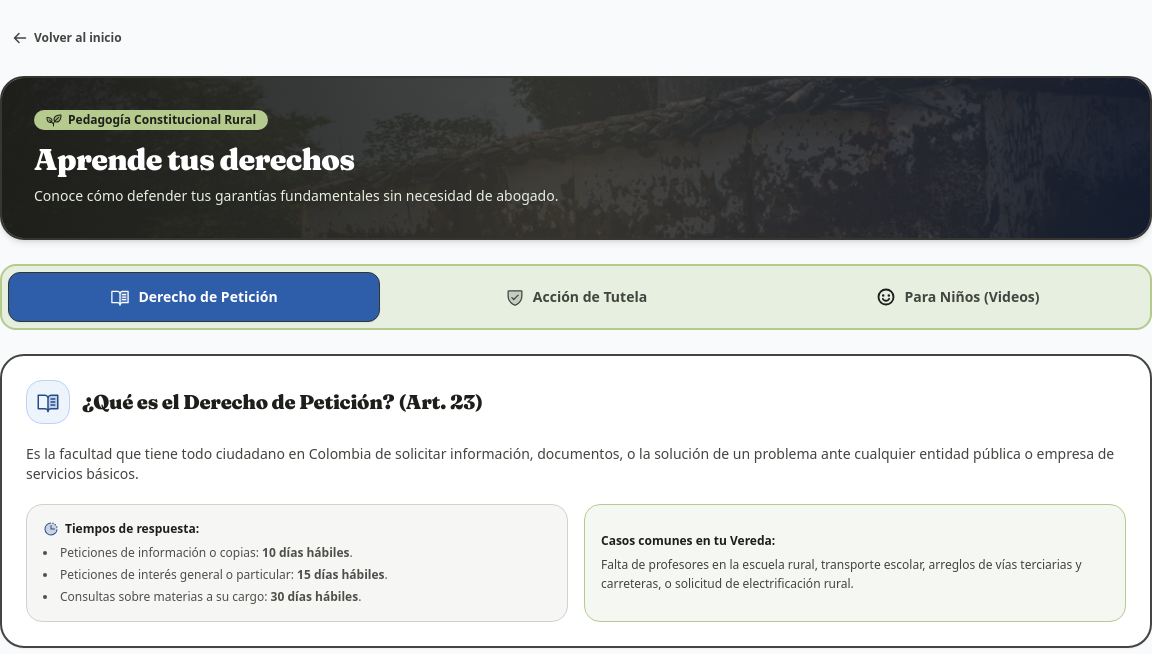
LearnRights Feature & Acceptance Criteria (R2) › TC-T1-F16-03: toggles back to Derecho de Petición from Acción de Tutela
The width and height of the screenshot is (1152, 654).
Click the button "Acción de Tutela" at (576, 297), box [390,272,762,322]
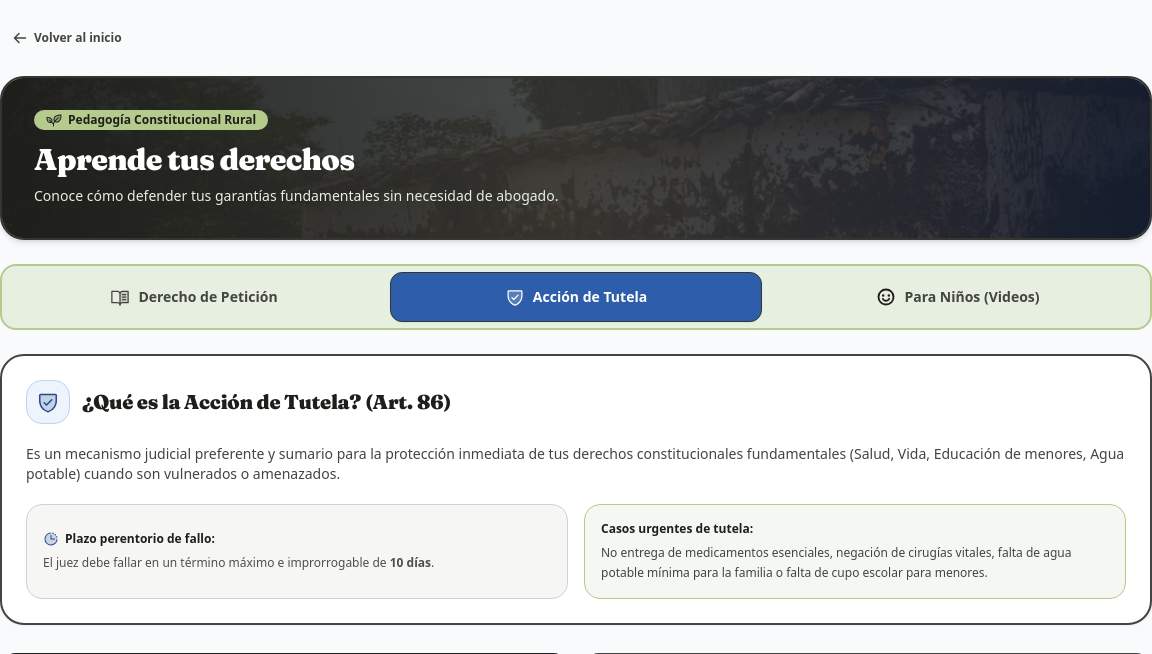
Result: the heading "¿Qué es la Acción de Tutela? (Art. 86)" is shown at [82,388,451,416]
Click the button "Derecho de Petición" at (194, 297), box [8,272,380,322]
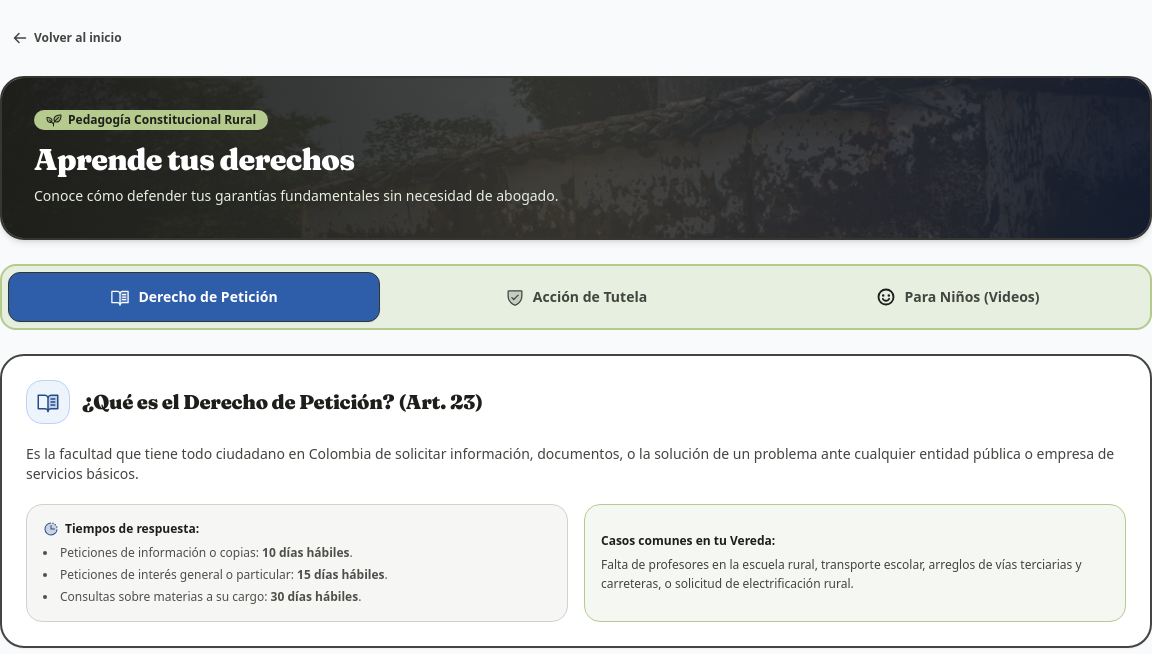
Result: the heading "¿Qué es el Derecho de Petición? (Art. 23)" is shown at [82,388,483,416]
